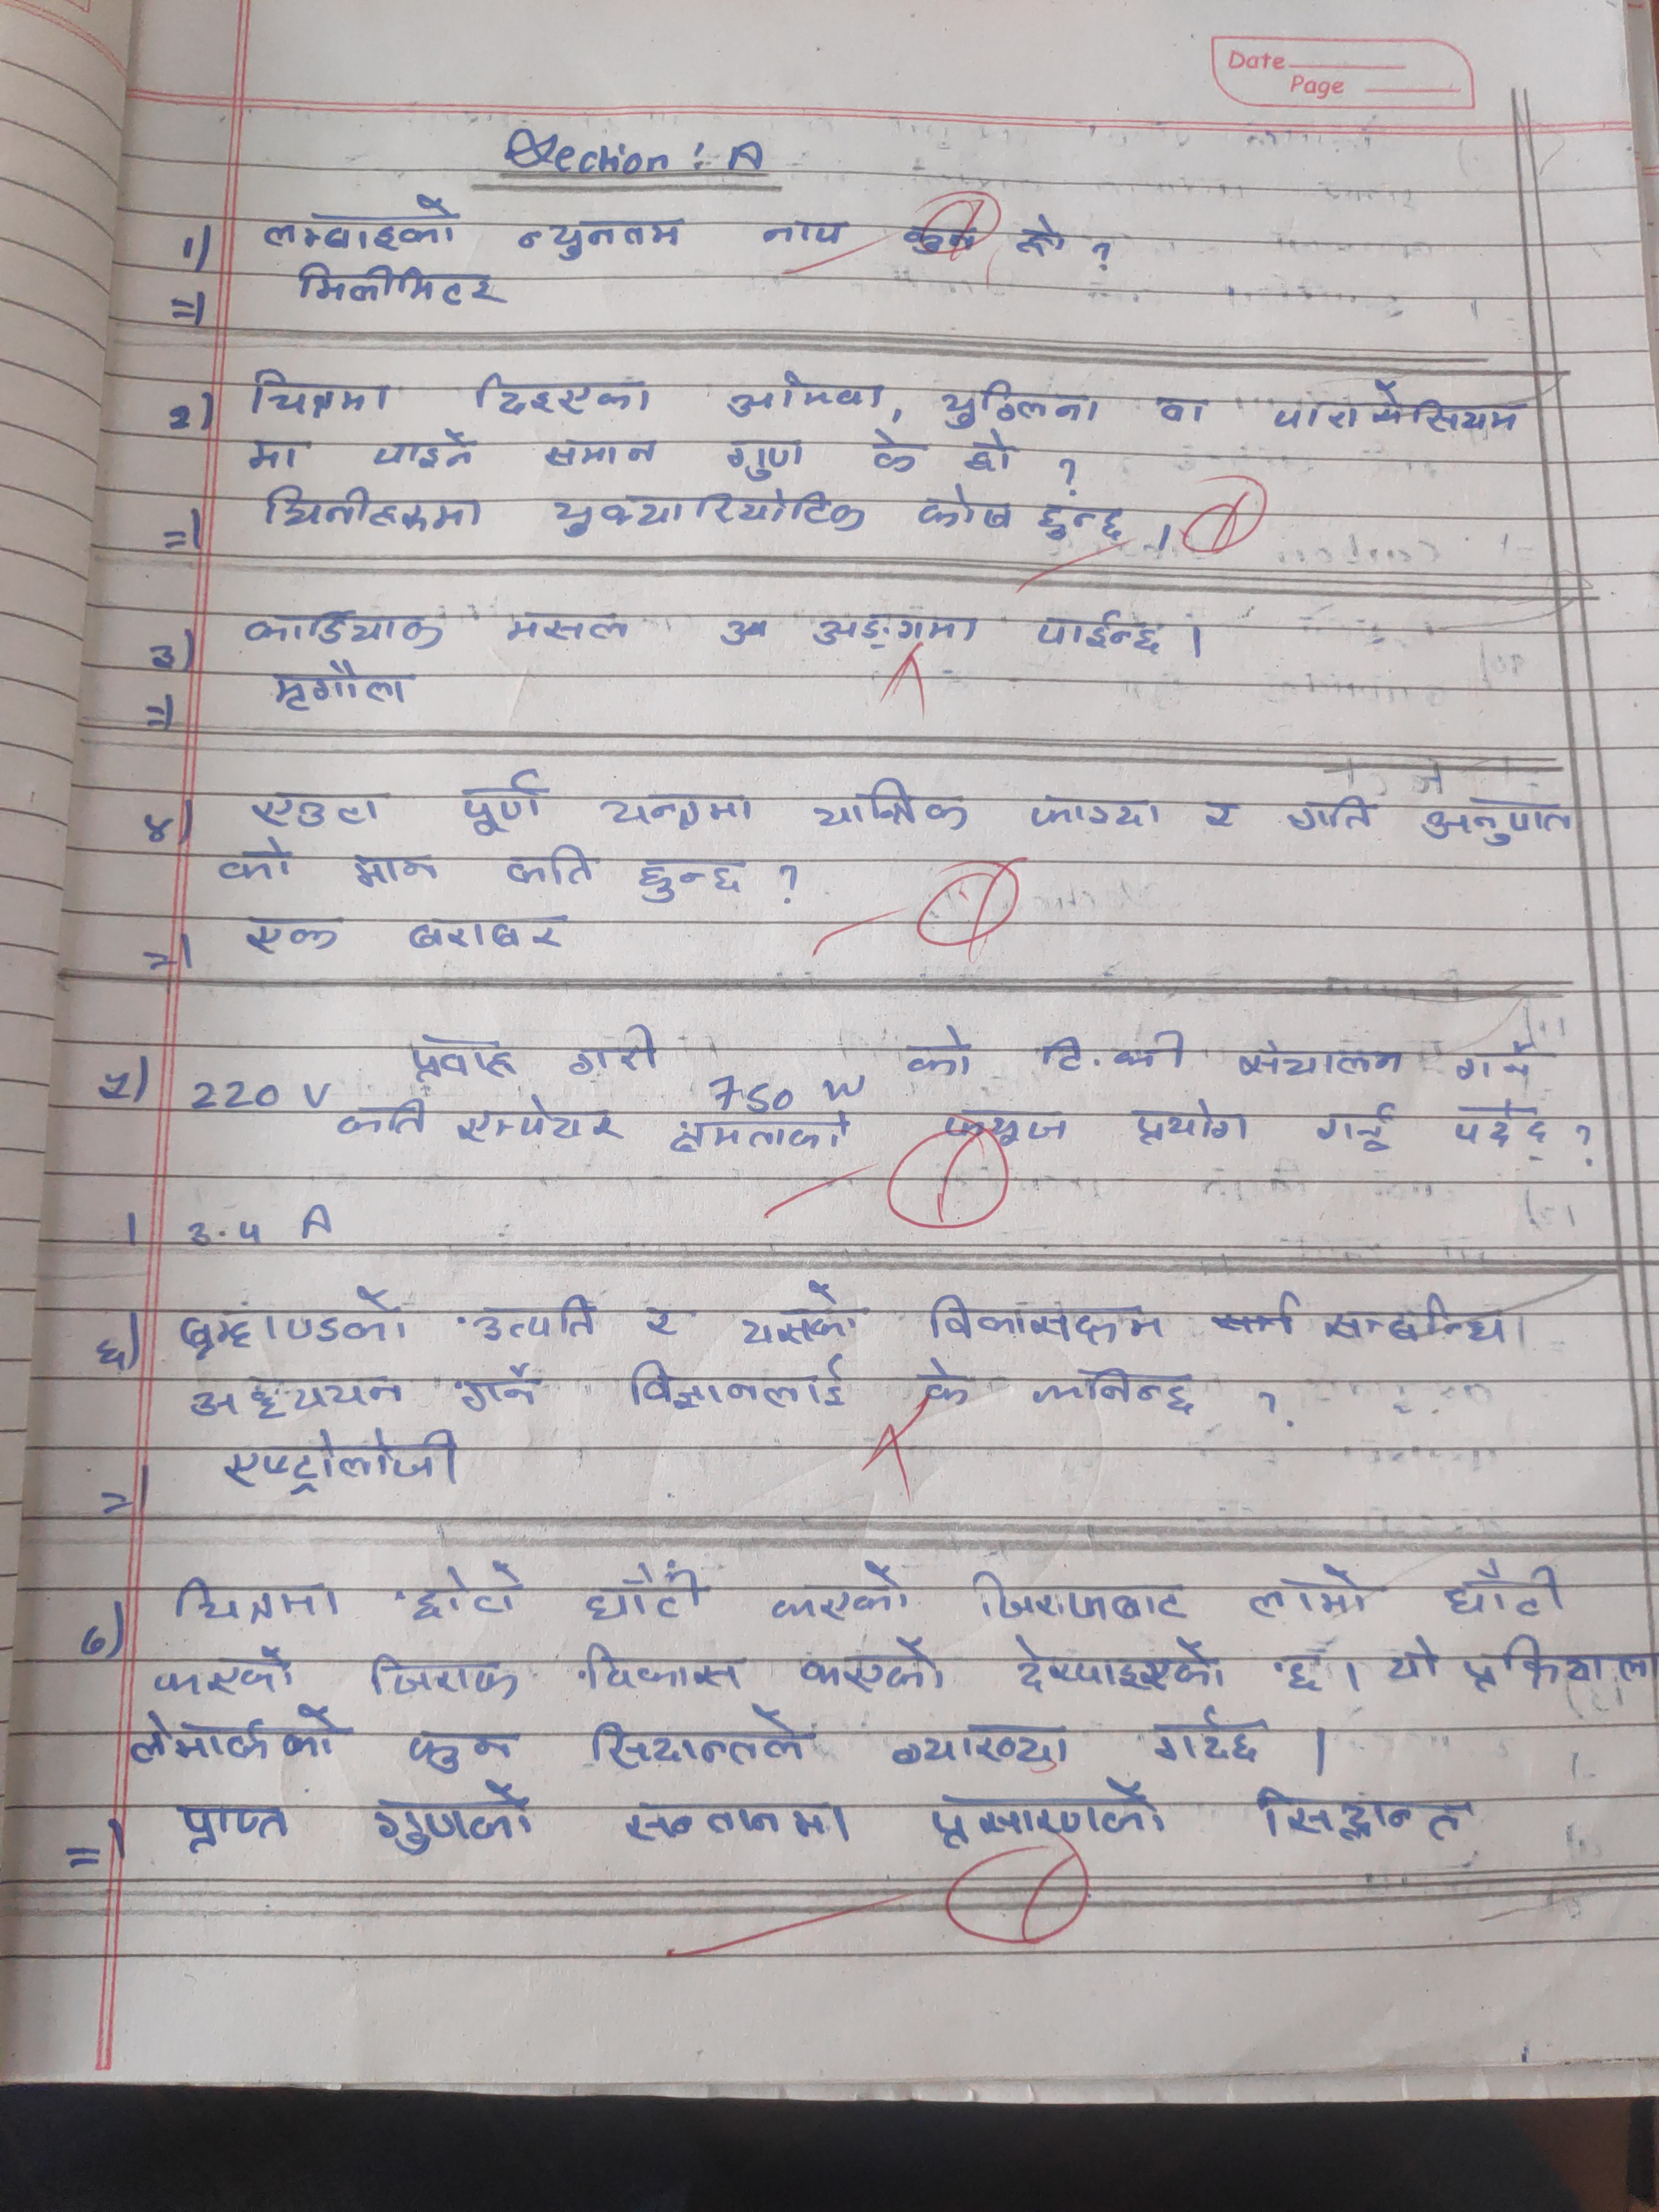text: (918, 1775, 1173, 1858), (218, 1426, 474, 1501), (174, 1282, 413, 1362), (547, 484, 871, 542), (1253, 1775, 1473, 1857), (1265, 374, 1528, 441), (922, 1285, 1169, 1348), (612, 1796, 859, 1858), (965, 1562, 1190, 1630), (361, 1775, 538, 1858), (127, 1709, 357, 1773), (1459, 1629, 1659, 1702), (620, 1357, 864, 1416), (1309, 1285, 1532, 1350), (1002, 1634, 1230, 1696), (584, 1710, 821, 1768), (258, 195, 465, 258), (260, 477, 490, 533), (186, 1372, 410, 1426), (880, 1714, 1077, 1775), (293, 258, 514, 312), (451, 1087, 634, 1150), (798, 1634, 950, 1709), (1030, 1014, 1195, 1082), (159, 1568, 347, 1627), (762, 1559, 920, 1627), (735, 1273, 866, 1355), (807, 773, 976, 836), (237, 601, 453, 650), (577, 1637, 755, 1696), (936, 373, 1112, 432), (467, 366, 664, 418), (1234, 1024, 1410, 1080), (261, 651, 416, 714), (512, 209, 687, 265), (357, 1653, 528, 1709), (1030, 1366, 1202, 1420), (246, 359, 394, 421), (153, 1641, 303, 1702), (159, 1797, 298, 1862), (1420, 791, 1575, 848), (1438, 1559, 1579, 1622), (807, 604, 990, 651), (580, 1562, 709, 1629), (659, 1113, 861, 1155), (401, 909, 575, 956), (723, 371, 890, 420), (589, 784, 756, 833), (1030, 603, 1175, 658), (1248, 1562, 1377, 1623), (1140, 1707, 1269, 1766), (408, 1562, 526, 1625), (246, 782, 387, 833), (629, 848, 751, 906), (453, 765, 551, 836), (469, 1292, 606, 1343), (1131, 1097, 1258, 1151), (1445, 1089, 1556, 1150), (936, 1104, 1080, 1150), (1026, 787, 1171, 831), (404, 1029, 518, 1082), (399, 1724, 519, 1773), (451, 1359, 551, 1416), (497, 603, 638, 643), (234, 907, 345, 958), (563, 1024, 669, 1076), (364, 423, 481, 470), (903, 1021, 983, 1085), (500, 840, 601, 890), (537, 430, 664, 470), (1309, 1101, 1405, 1153), (1030, 495, 1131, 543), (906, 489, 1018, 533), (1443, 1040, 1542, 1087), (213, 836, 295, 890), (721, 435, 809, 484), (347, 846, 439, 892), (910, 1348, 978, 1409), (1284, 792, 1382, 833), (859, 420, 924, 479), (333, 1101, 430, 1139), (760, 212, 854, 249), (957, 423, 1018, 477), (237, 432, 312, 474), (1385, 1635, 1443, 1689), (1269, 1651, 1331, 1700), (1016, 212, 1068, 265), (640, 1299, 694, 1339), (1202, 792, 1241, 840), (1154, 385, 1190, 432)
